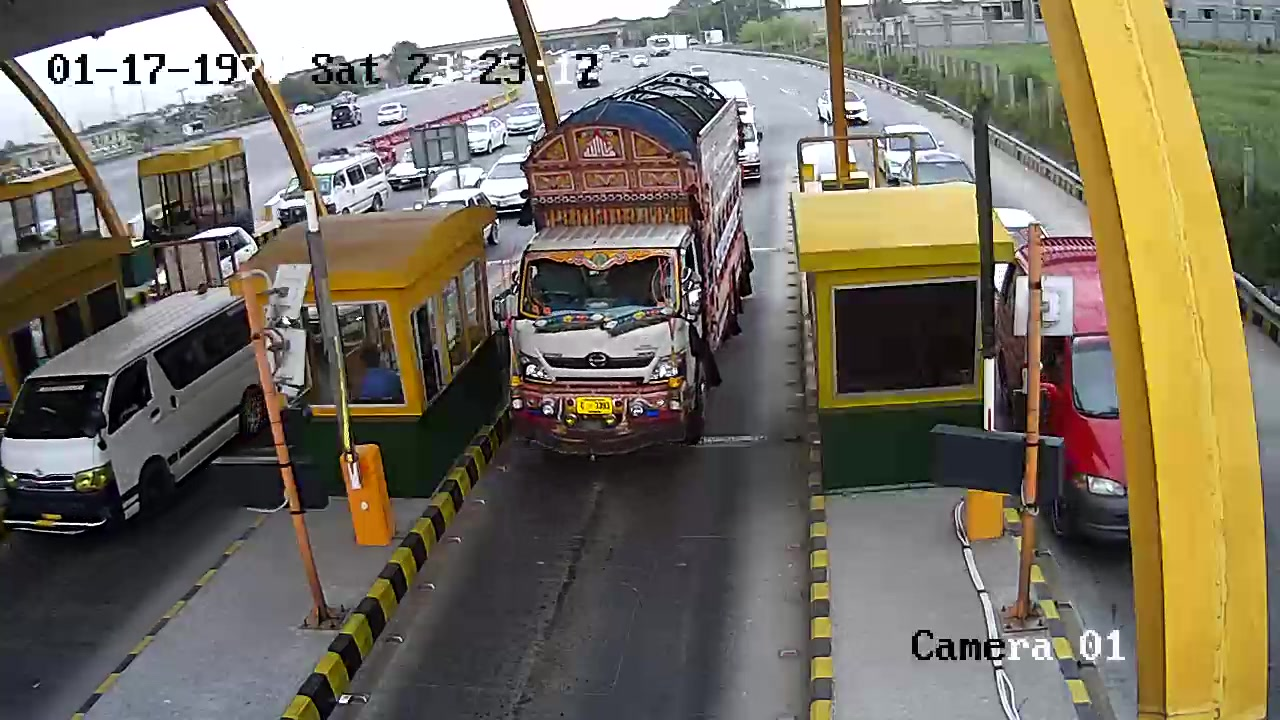F5: (501, 71, 755, 446)
